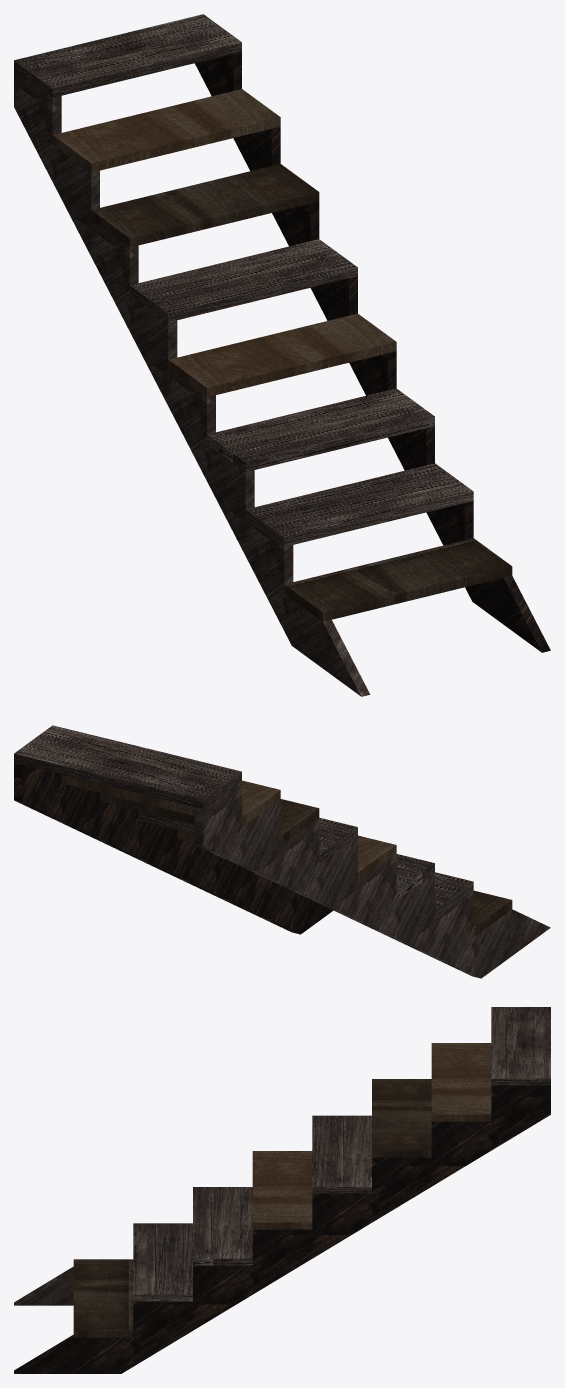
Rendered from old_wood_stairs.glb.
3 views of the same model, one above another, from view 1: azimuth 30°, elevation 25°; view 2: azimuth 150°, elevation 25°; view 3: azimuth 270°, elevation 25° (orthographic). The views are drawn at different scales.
Parts seen in each view (by area): view 1: SketchUp.003, SketchUp.002, SketchUp.009, SketchUp.005, SketchUp.010, SketchUp.008, SketchUp.001, SketchUp.006, SketchUp.011, SketchUp.013; view 2: SketchUp.003, SketchUp.002, SketchUp.011, SketchUp.010, SketchUp.009, SketchUp.013, SketchUp.008, SketchUp.005, SketchUp.006, SketchUp.001; view 3: SketchUp.002, SketchUp.005, SketchUp.008, SketchUp.010, SketchUp.001, SketchUp.006, SketchUp.009, SketchUp.011, SketchUp.013, SketchUp.003.
Boxes of the visible parts, x1=… form: SketchUp.003: x1=14, y1=70, x2=369, y2=696; SketchUp.002: x1=195, y1=51, x2=550, y2=652; SketchUp.009: x1=91, y1=164, x2=319, y2=247; SketchUp.005: x1=284, y1=538, x2=512, y2=621; SketchUp.010: x1=52, y1=89, x2=280, y2=172; SketchUp.008: x1=168, y1=313, x2=396, y2=397; SketchUp.001: x1=245, y1=463, x2=473, y2=546; SketchUp.006: x1=207, y1=388, x2=434, y2=471; SketchUp.011: x1=14, y1=14, x2=241, y2=97; SketchUp.013: x1=129, y1=239, x2=357, y2=322; SketchUp.003: x1=194, y1=781, x2=550, y2=978; SketchUp.002: x1=14, y1=763, x2=333, y2=934; SketchUp.011: x1=14, y1=725, x2=241, y2=808; SketchUp.010: x1=61, y1=774, x2=280, y2=827; SketchUp.009: x1=100, y1=793, x2=319, y2=845; SketchUp.013: x1=138, y1=811, x2=357, y2=863; SketchUp.008: x1=177, y1=829, x2=396, y2=881; SketchUp.005: x1=293, y1=890, x2=512, y2=936; SketchUp.006: x1=216, y1=854, x2=434, y2=900; SketchUp.001: x1=254, y1=872, x2=473, y2=918; SketchUp.002: x1=14, y1=1085, x2=550, y2=1373; SketchUp.005: x1=73, y1=1259, x2=133, y2=1337; SketchUp.008: x1=252, y1=1151, x2=312, y2=1229; SketchUp.010: x1=431, y1=1043, x2=491, y2=1121; SketchUp.001: x1=133, y1=1223, x2=192, y2=1301; SketchUp.006: x1=193, y1=1187, x2=252, y2=1265; SketchUp.009: x1=372, y1=1079, x2=431, y2=1157; SketchUp.011: x1=491, y1=1007, x2=550, y2=1085; SketchUp.013: x1=312, y1=1115, x2=371, y2=1193; SketchUp.003: x1=14, y1=1266, x2=73, y2=1305.
Size of the model in its own units: 0.85 by 1.64 by 2.7.
Materials: 6 (5 with a texture image).
